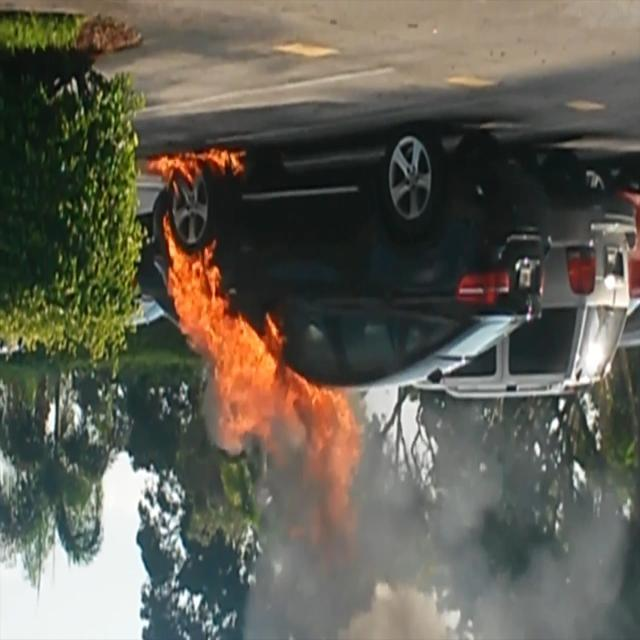fire: (144, 141, 362, 538)
